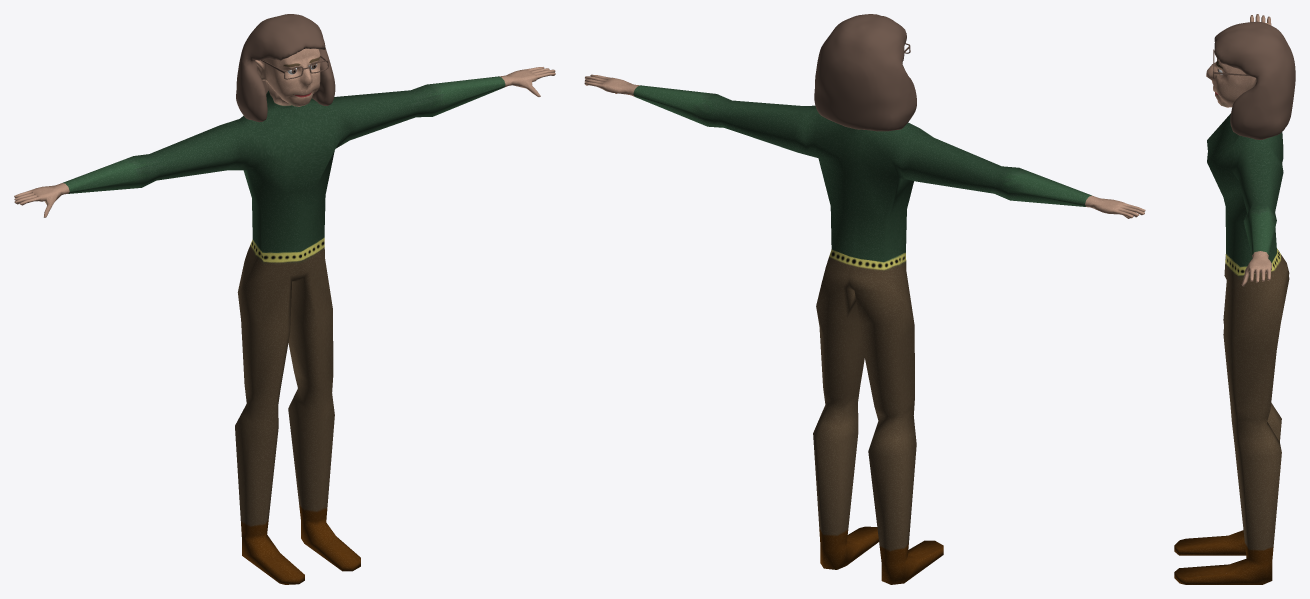
The model's file is derevotyan.glb.
3 views of the same model, side by side, from view 1: azimuth 30°, elevation 25°; view 2: azimuth 150°, elevation 25°; view 3: azimuth 270°, elevation 25° (orthographic). The views are drawn at different scales.
Visible parts, largest first — view 1: body, hair.002; view 2: body, hair.002; view 3: body, hair.002.
Part boxes in pixels (left/top/right/bottom): body: left=14, top=48, right=555, bottom=584; hair.002: left=236, top=14, right=335, bottom=122; body: left=584, top=74, right=1145, bottom=584; hair.002: left=814, top=14, right=916, bottom=131; body: left=1174, top=14, right=1289, bottom=584; hair.002: left=1214, top=21, right=1295, bottom=139.
Bounding box in the file's own units: 26.59 × 24.94 × 5.11.
4 materials, 1 textured.
